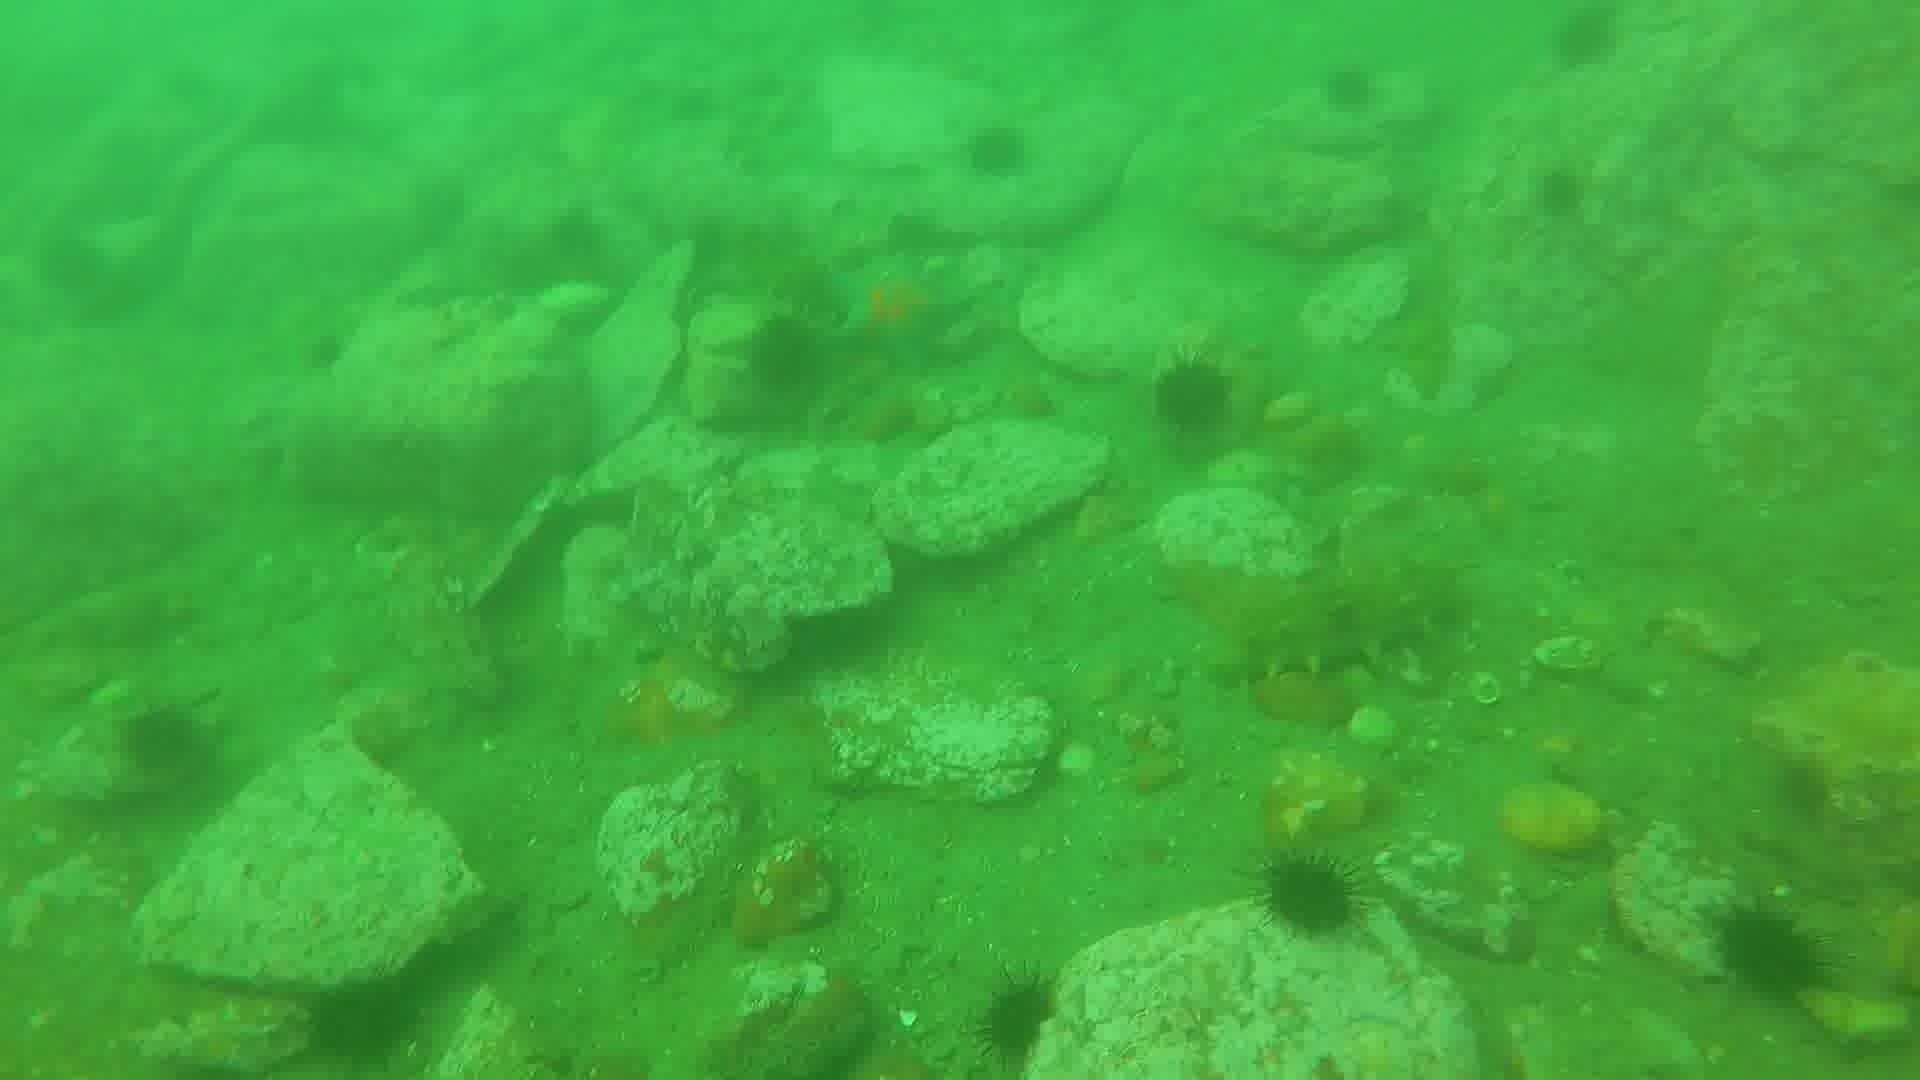echinus: (1710, 903, 1832, 1006), (301, 973, 423, 1069), (1254, 851, 1366, 943), (971, 971, 1065, 1069), (113, 702, 214, 785), (740, 313, 829, 401), (1149, 353, 1238, 440), (1547, 5, 1627, 73), (1768, 754, 1837, 825), (960, 120, 1034, 185), (1528, 162, 1592, 225), (1316, 61, 1382, 117)
holothurian: (1211, 559, 1470, 690)
starfish: (827, 255, 971, 373)
